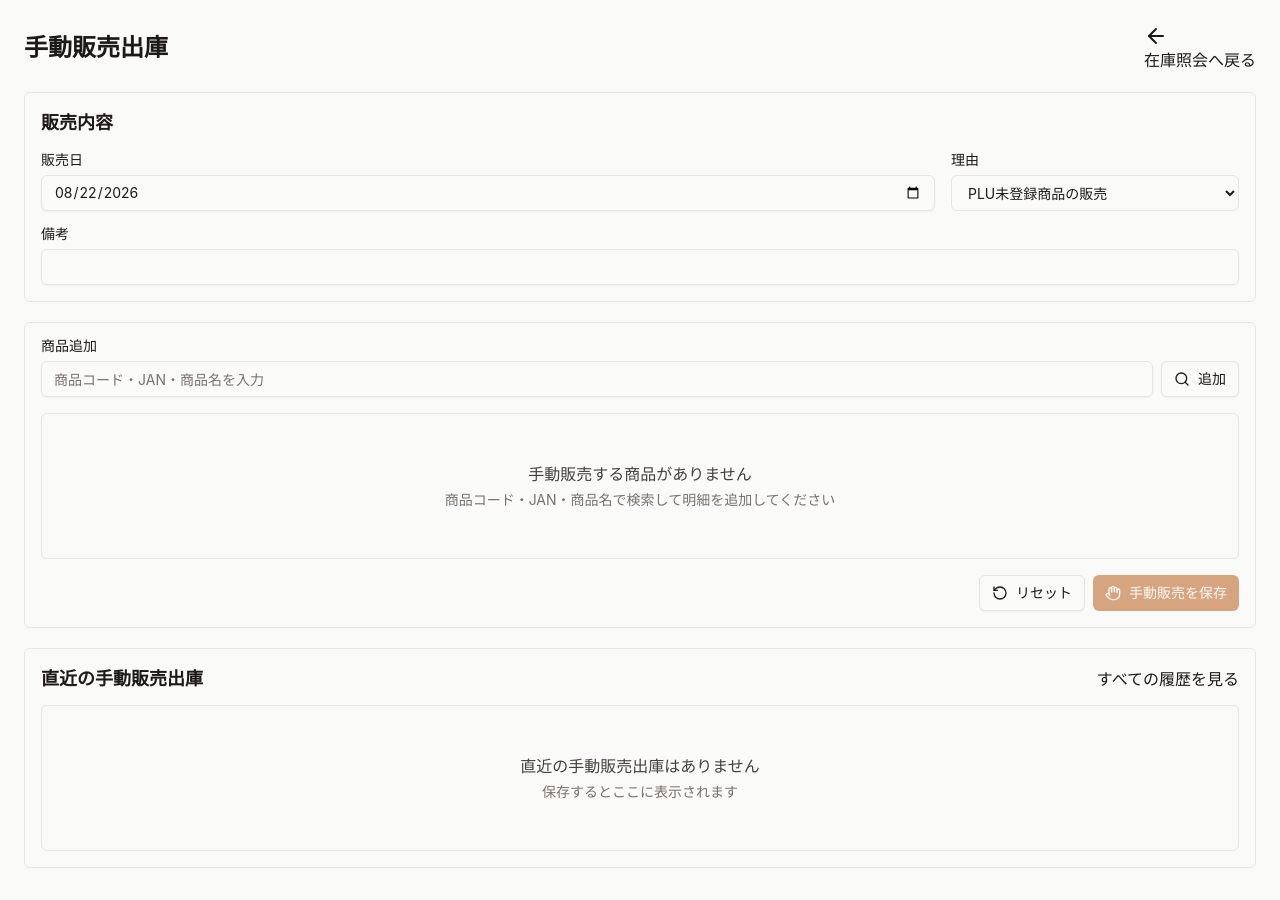
Test: ManualSalePage ProductAddSuggest (UI-04-D16) › W10: 手動販売保存eventで表示中候補を同期closeする
The width and height of the screenshot is (1280, 900).
Type "MS-S1" into the dropdown named "手動販売商品検索" at (597, 379), box [41, 361, 1153, 397]
Then press Enter
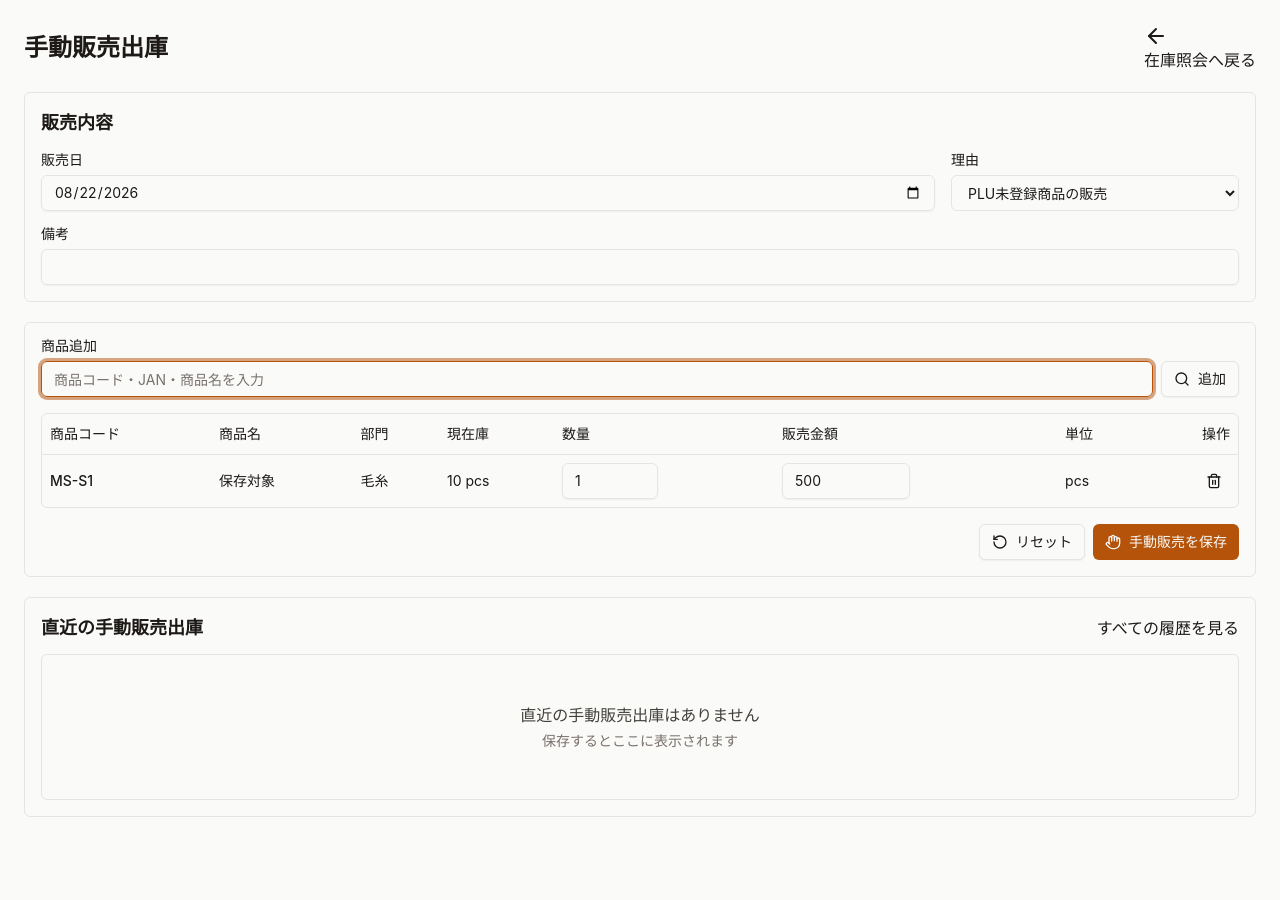
Expected: the text "保存対象" is shown, [211, 454, 352, 506]
Type "保存前" into the dropdown named "手動販売商品検索" at (597, 379), box [41, 361, 1153, 397]
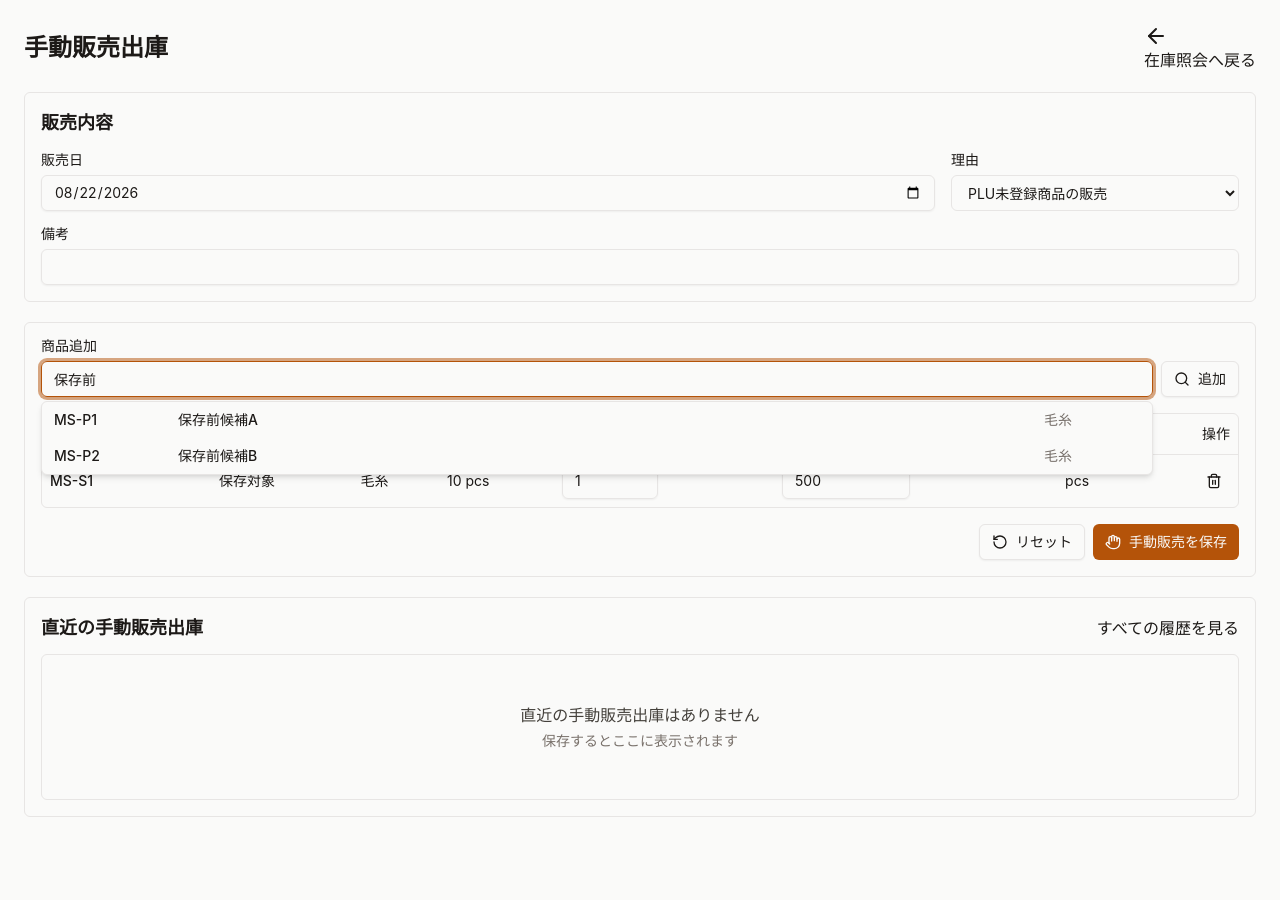
Expected: the list is shown, [41, 401, 1153, 475]
Click the button "手動販売を保存" at (1166, 542), box [1093, 524, 1239, 560]
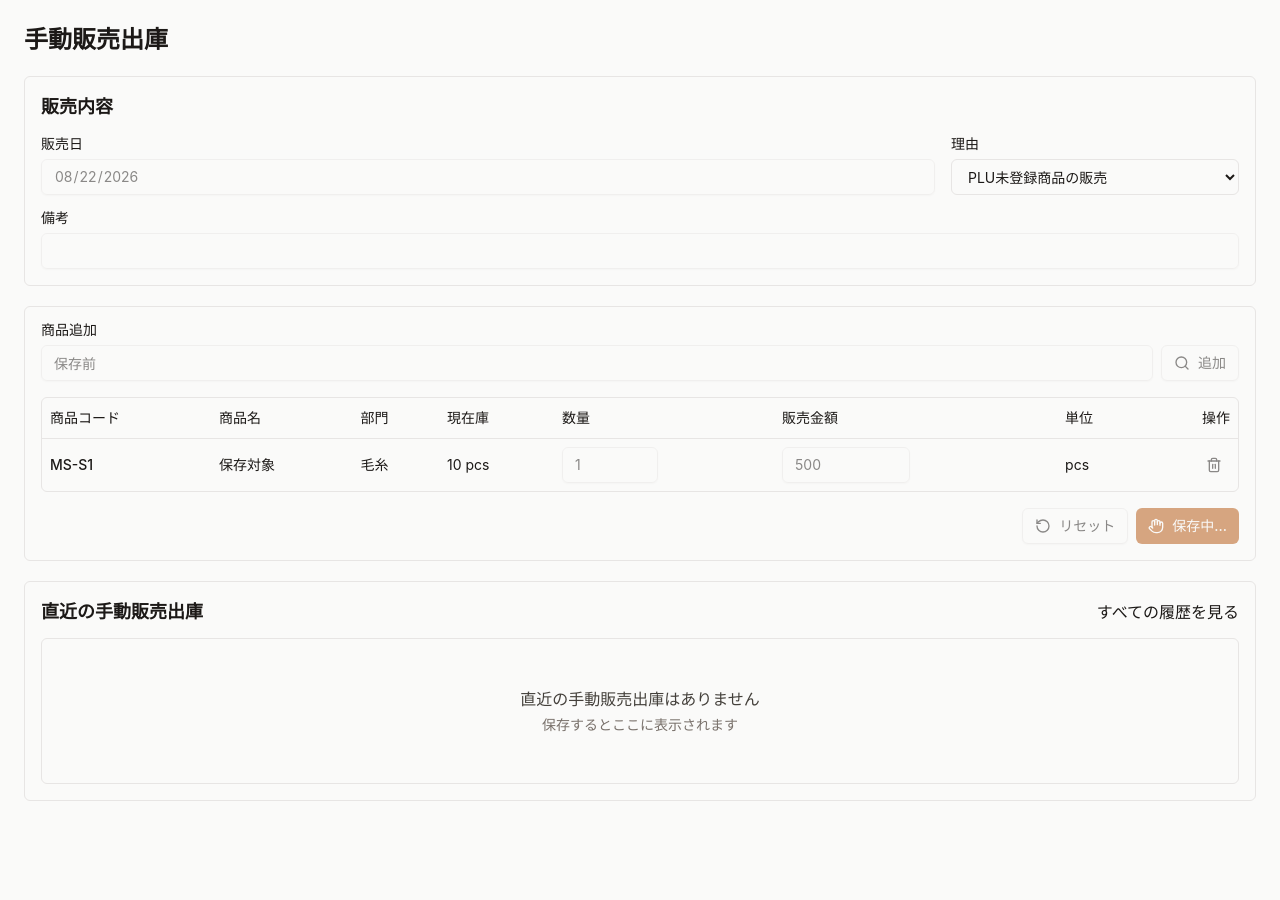
Expected: the list is gone
